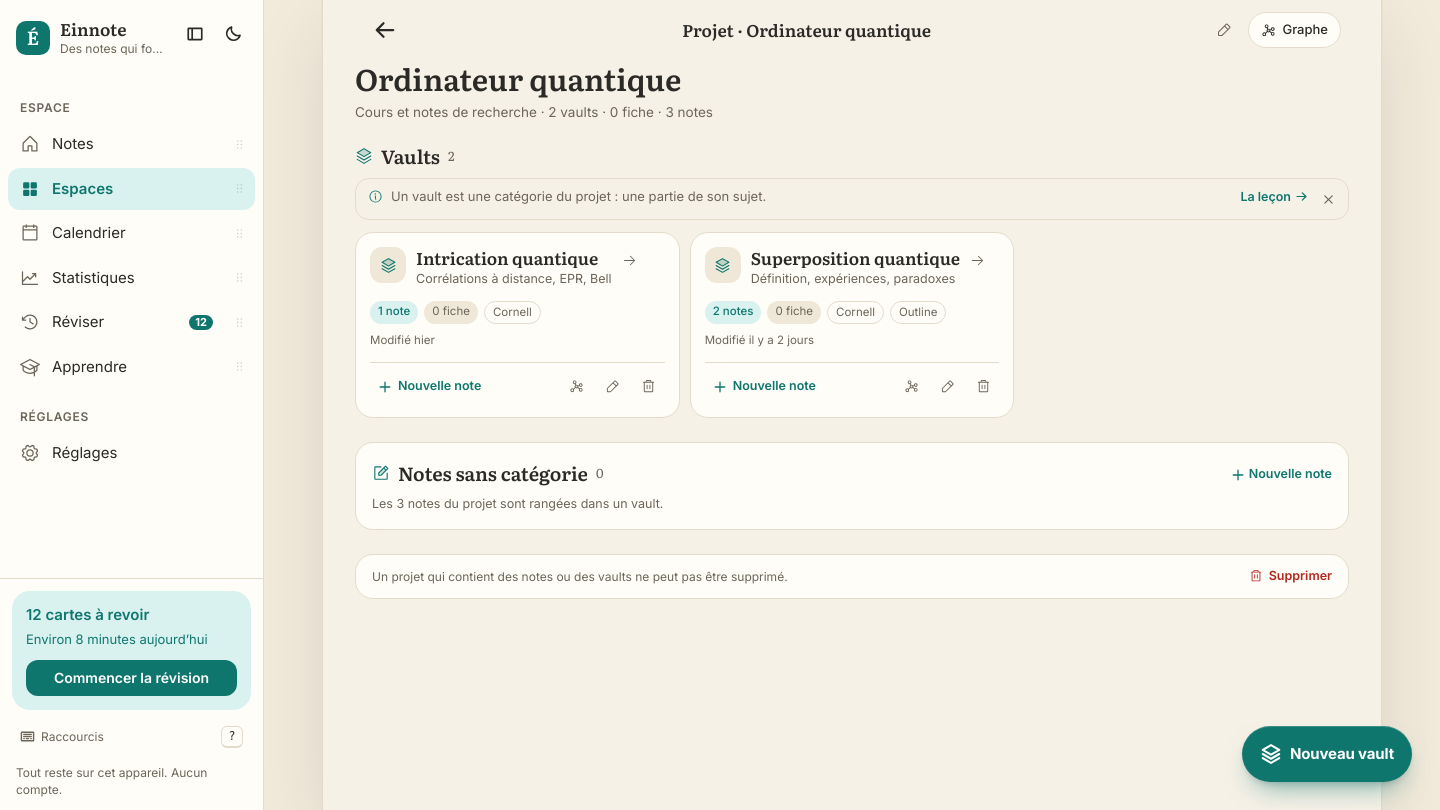
Scenario: Créer un vault = créer une carte, rien de plus › ne propose plus de modèle de graphe dans le formulaire
Click the button "Nouveau vault" at (1327, 754), box [1242,726,1412,782]
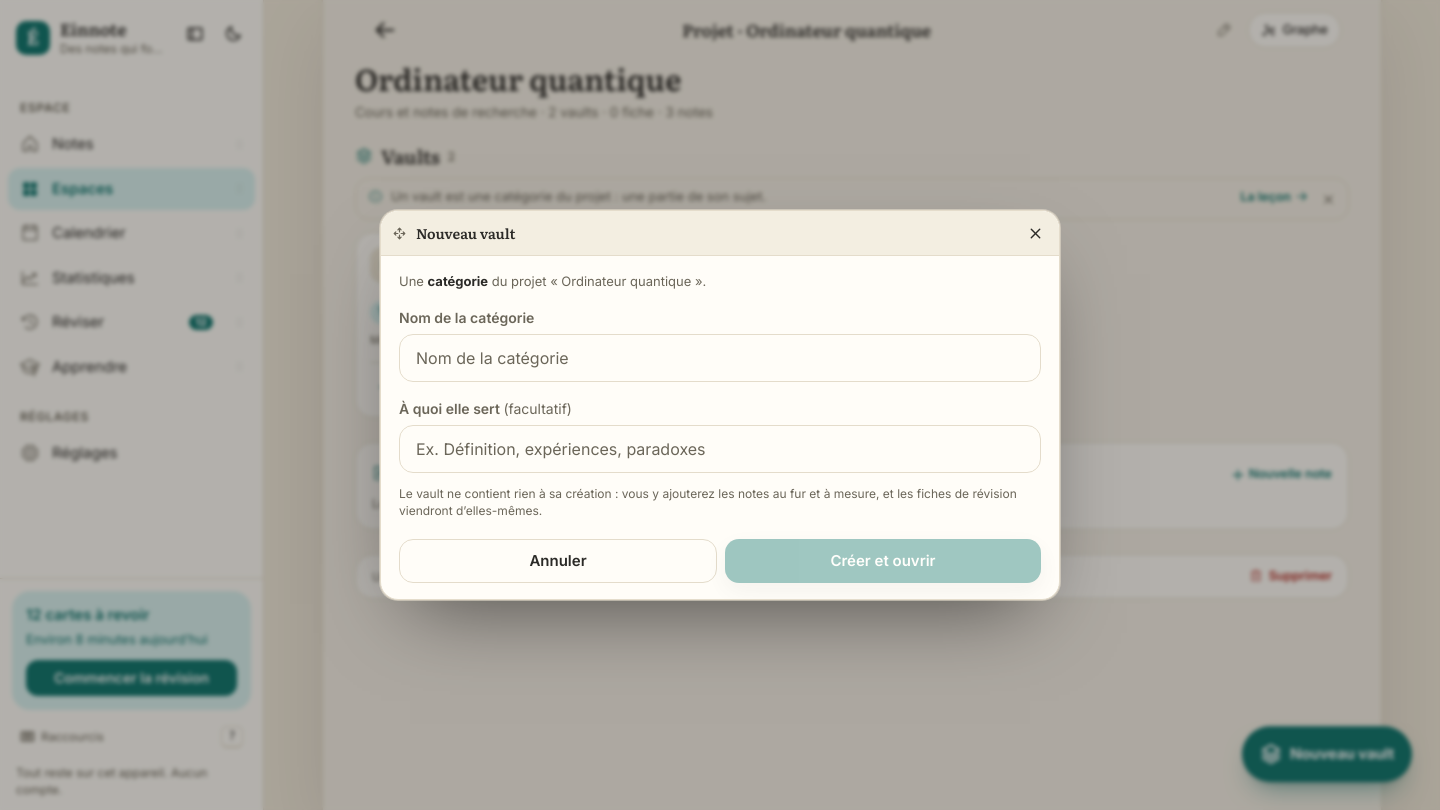
Expected: the text "catégorie" is shown, [391,188,766,204]
Result: the field with placeholder "Nom de la catégorie" is shown at [399,334,1041,382]
